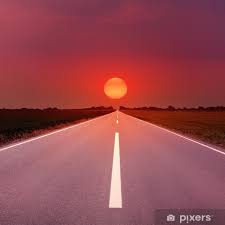strada: (1, 112, 223, 221)
